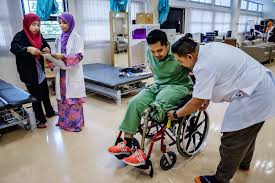wheelchair: (107, 29, 211, 178)
